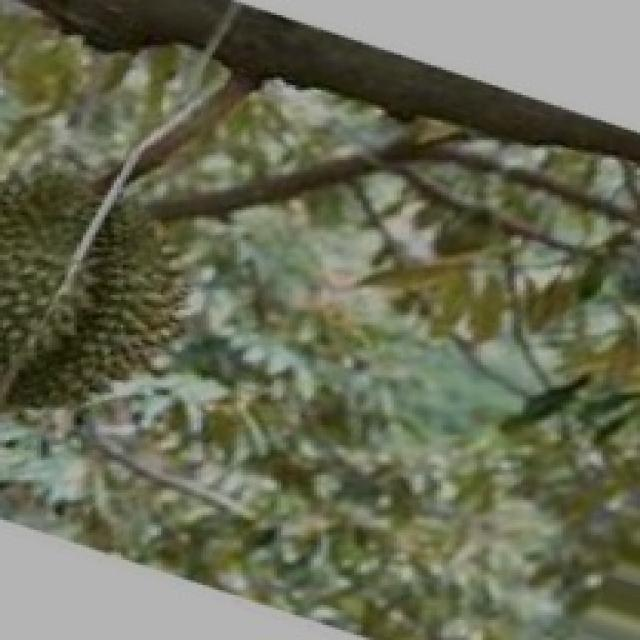fruit: (24, 182, 224, 448), (3, 0, 268, 80)
